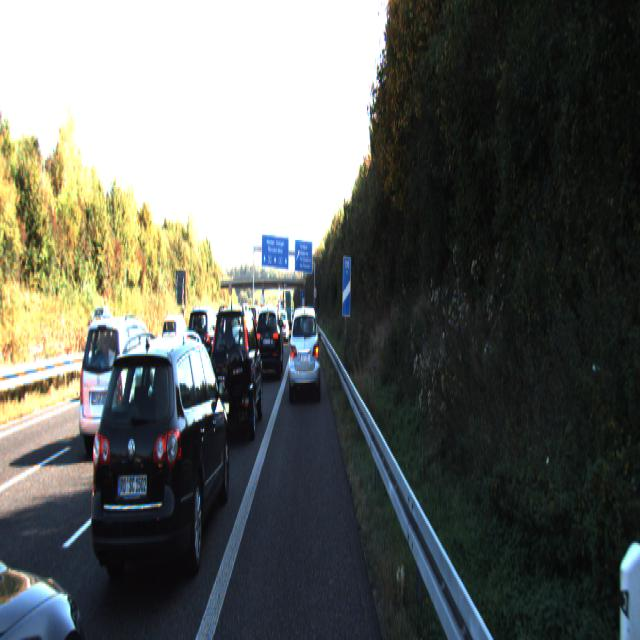Car: (84, 326, 232, 615), (0, 401, 114, 639), (76, 311, 165, 458), (205, 303, 264, 446), (288, 303, 321, 402), (183, 305, 222, 386), (254, 302, 284, 381), (160, 312, 193, 368)
